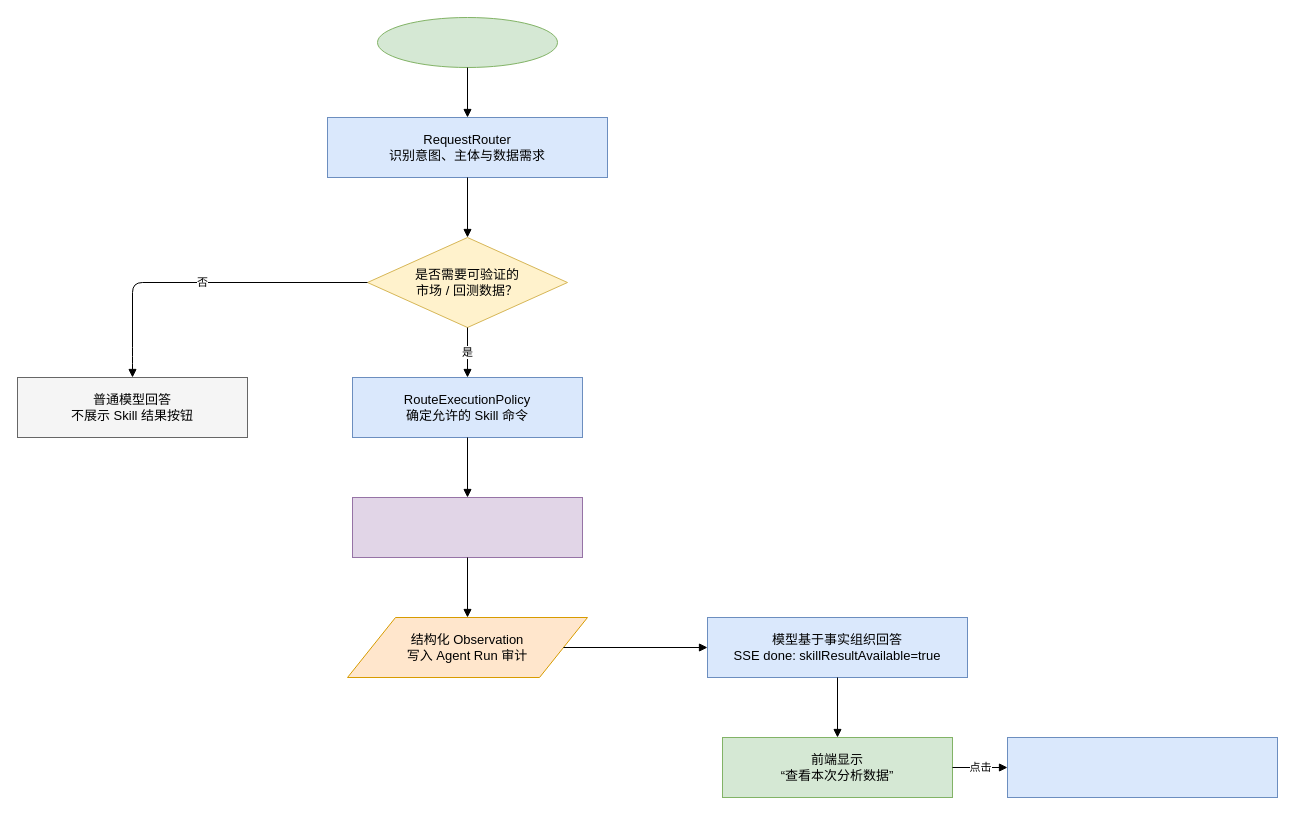
Some shapes in this 1295 by 815 pixel diagram are drawn without their labels. The box of each missing label's shape, as (x1, y1, x2, y2) in pixels:
GET /agent-runs/{runId}/skill-results 按 command 打开数据看板: (1006, 736, 1278, 798)
StockSkill / Web 工具 获取并校验事实数据: (352, 496, 582, 558)
用户自由提问: (376, 16, 558, 68)
